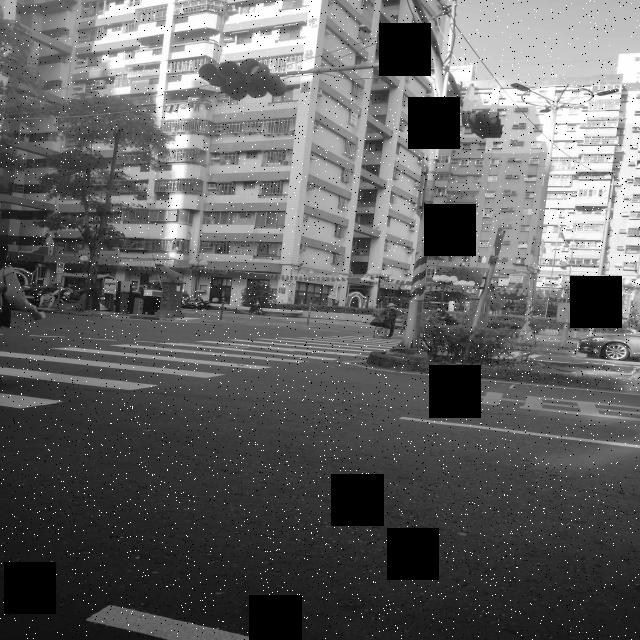person: (0, 244, 43, 327), (370, 304, 397, 337), (435, 305, 450, 324)
zebra crossing: (0, 332, 417, 414)
